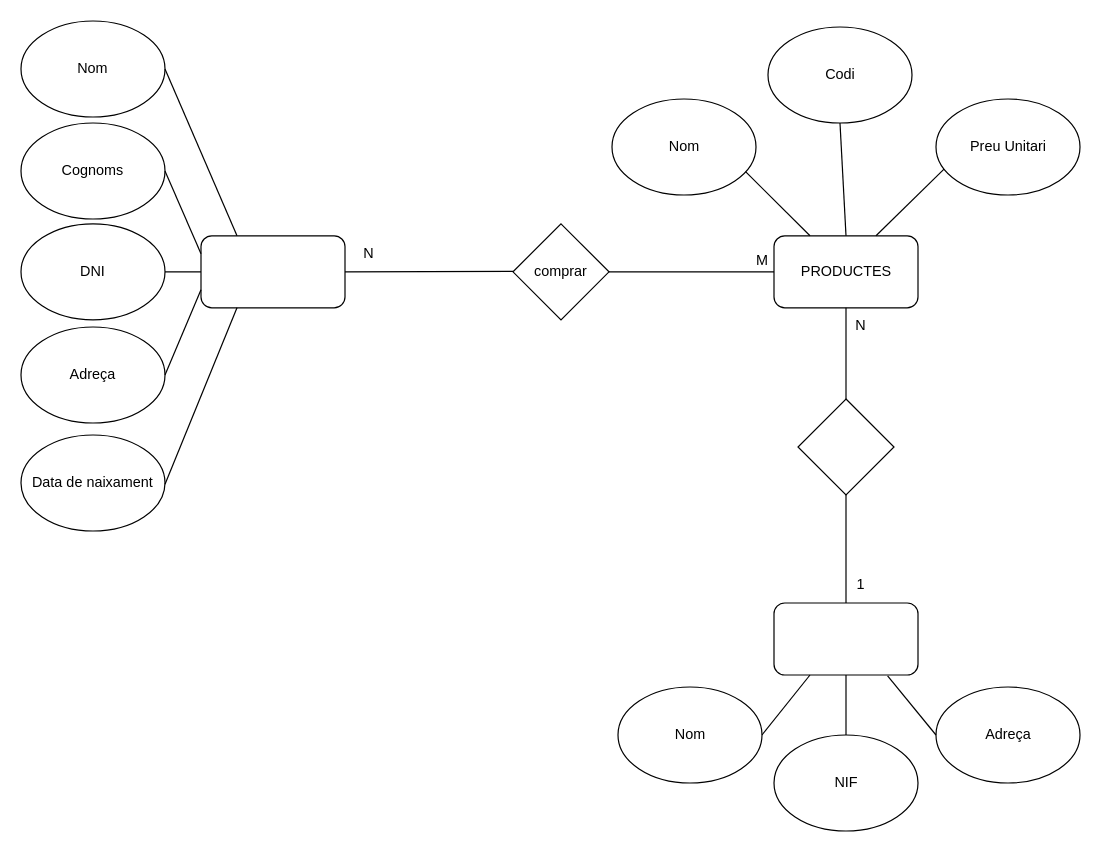
The diagram is 1102 pixels wide and 852 high, and some of its shapes have lost their labels. Here are the shapes that lost their labels. From the top down, the centre of each, then its label:
point 272,271: CLIENTS
point 845,446: proveir
point 845,638: PROVEÏDORS
